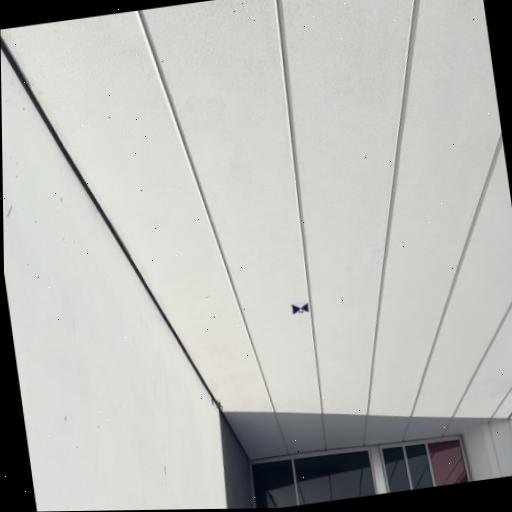target7: (292, 301, 309, 315)
